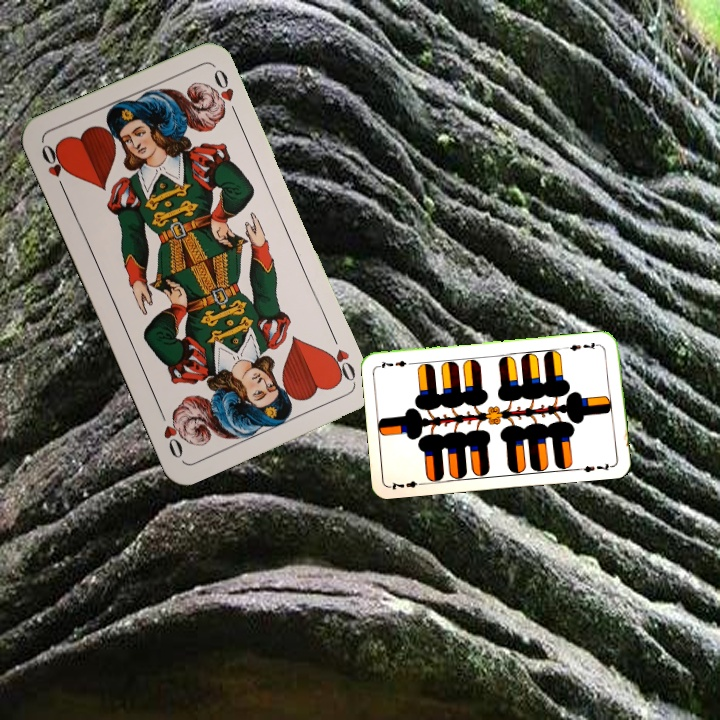E7: (563, 338, 604, 354), (386, 477, 427, 492)
HO: (322, 330, 359, 386), (37, 140, 71, 195)
